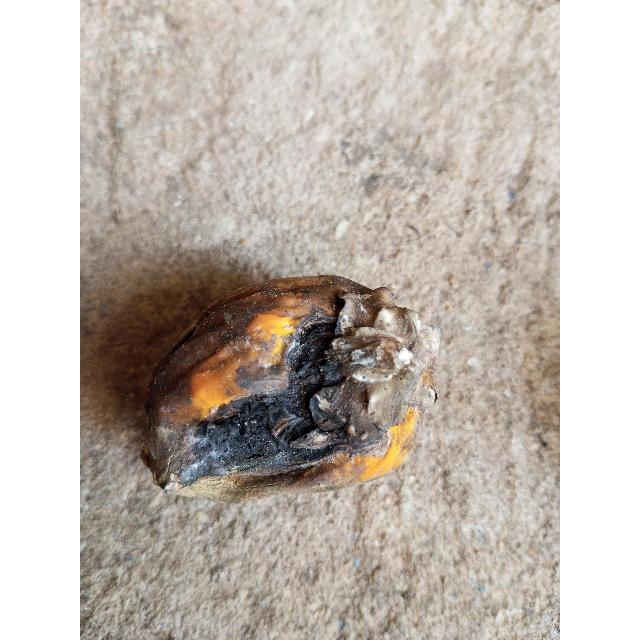damaged: (142, 275, 440, 504)
